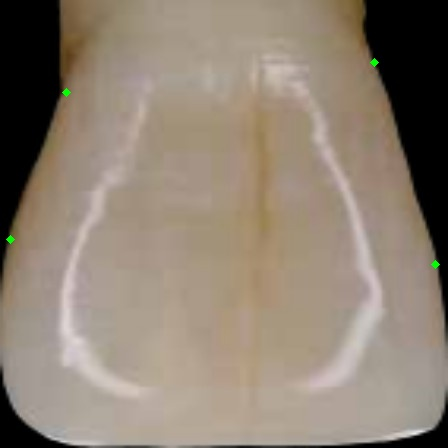coin_1: (374, 62, 394, 82)
coin_2: (435, 264, 448, 284)
coin_3: (66, 92, 86, 112)
coin_4: (10, 239, 30, 259)
